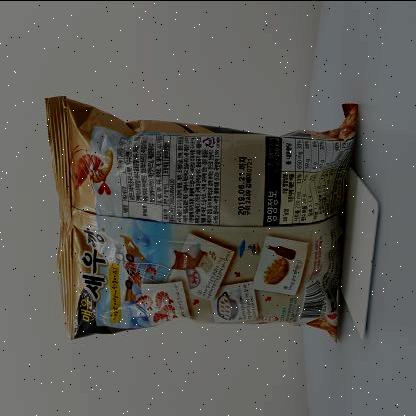Others: (36, 82, 366, 350)
